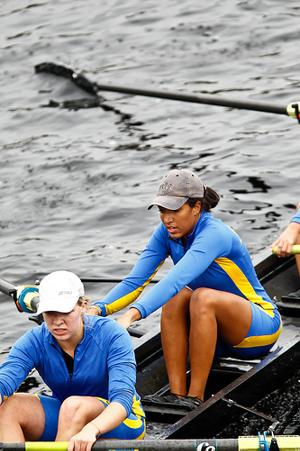person: (86, 167, 283, 411)
